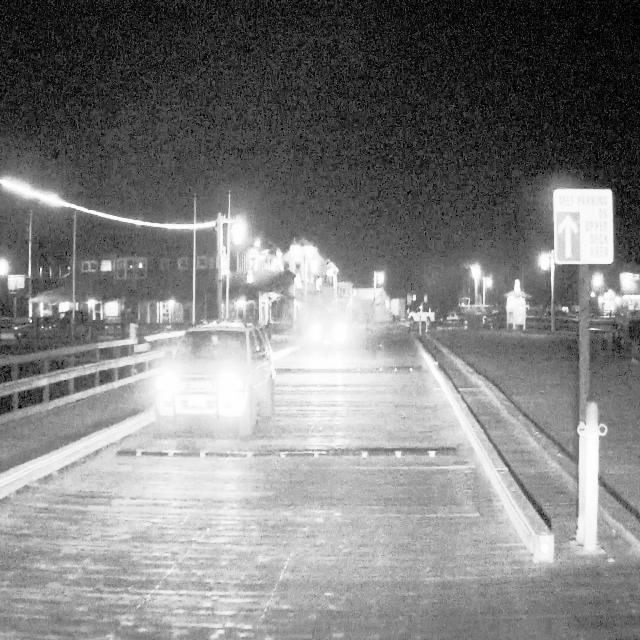Car: (147, 313, 276, 434)
Sign: (553, 189, 613, 265)
